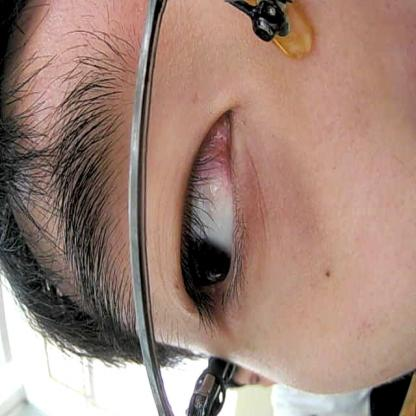Right: (160, 92, 261, 328)
